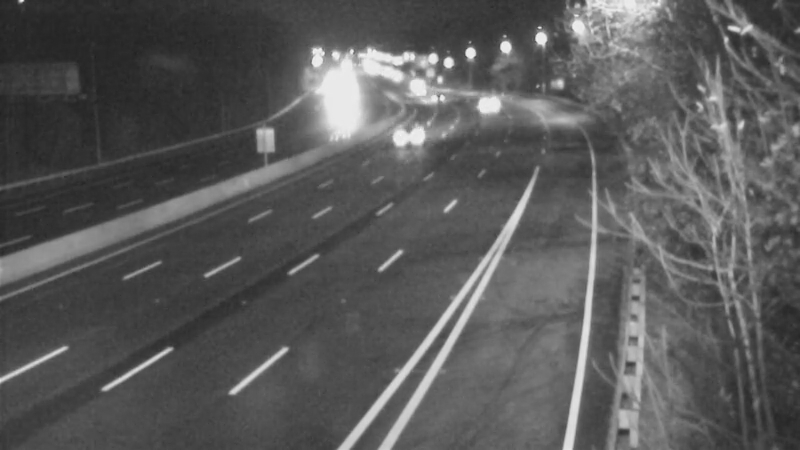vehicle: (393, 59, 443, 109), (399, 70, 449, 120), (414, 74, 464, 124), (459, 79, 509, 129), (379, 111, 429, 161), (307, 79, 357, 129)
